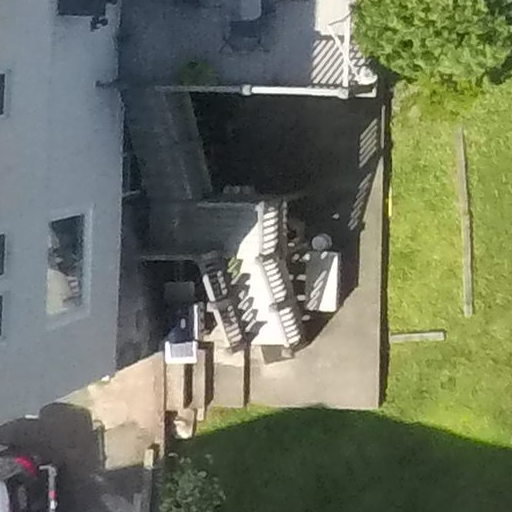barbecue: (152, 275, 220, 374)
container: (309, 224, 340, 253)
porch: (103, 1, 412, 389)
